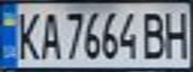4: (118, 8, 142, 60)
6: (81, 8, 103, 60), (100, 8, 121, 61)
7: (60, 8, 84, 60)
A: (36, 8, 63, 61)
B: (139, 8, 172, 60)
H: (160, 7, 193, 60)
K: (9, 7, 42, 61)
